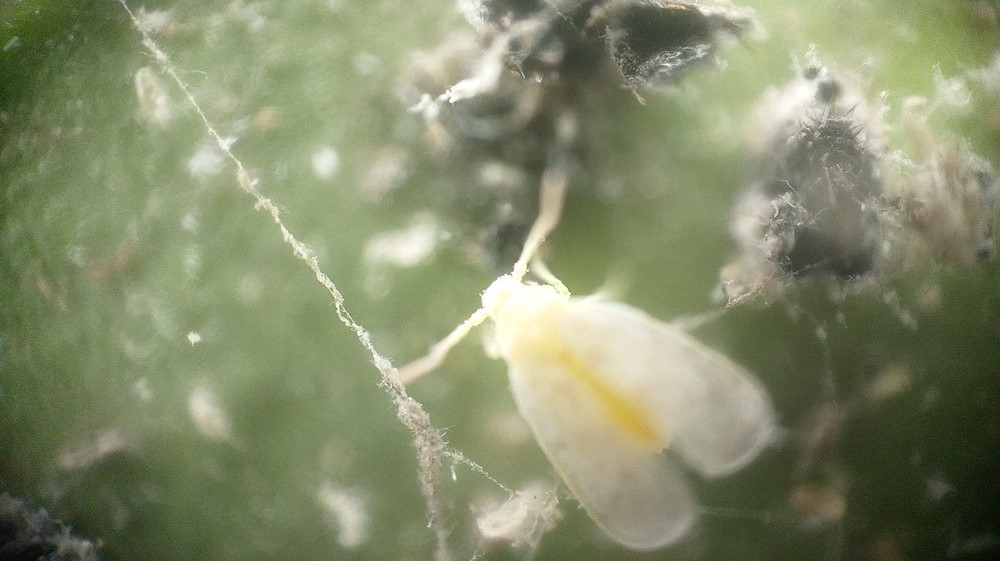Mosca Blanca: (373, 170, 793, 557)
